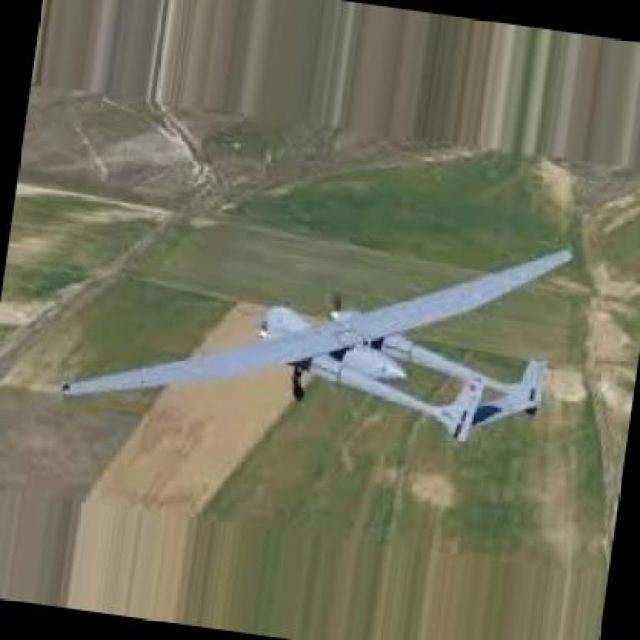iha: (57, 251, 569, 446)
